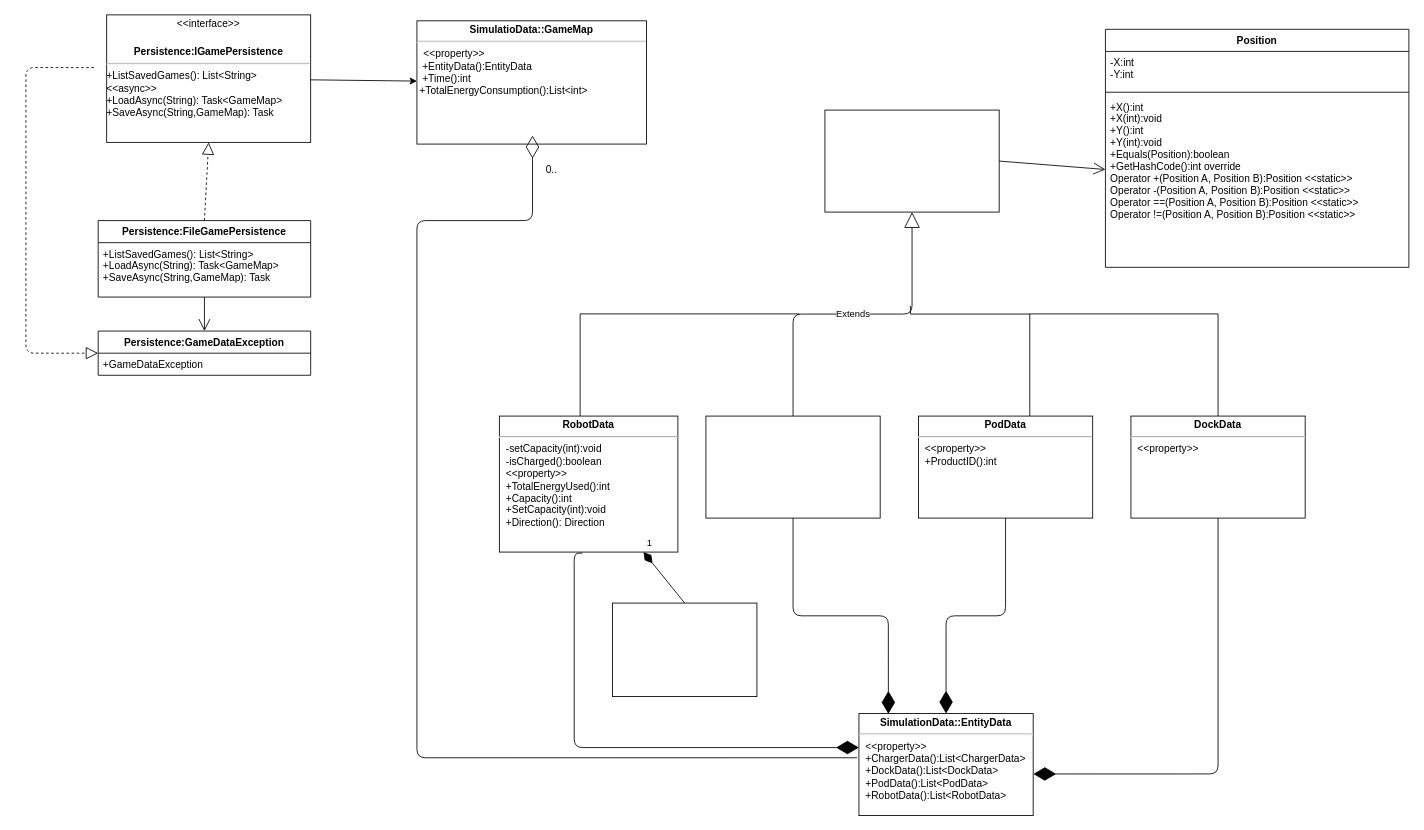
The diagram is 1424 pixels wide and 830 high, and some of its shapes have lost their labels. The shapes that lost their labels are listed below. From the top down, each one's centre as x and y in pixels, then its label:
the point at 911,160: Entity <<property>> +ID():int +Pos():int,int +IsLocked():Boolean
the point at 792,466: ChargerData <<property>>
the point at 684,649: <<enumeration>> Direction LEFT RIGHT UP DOWN
